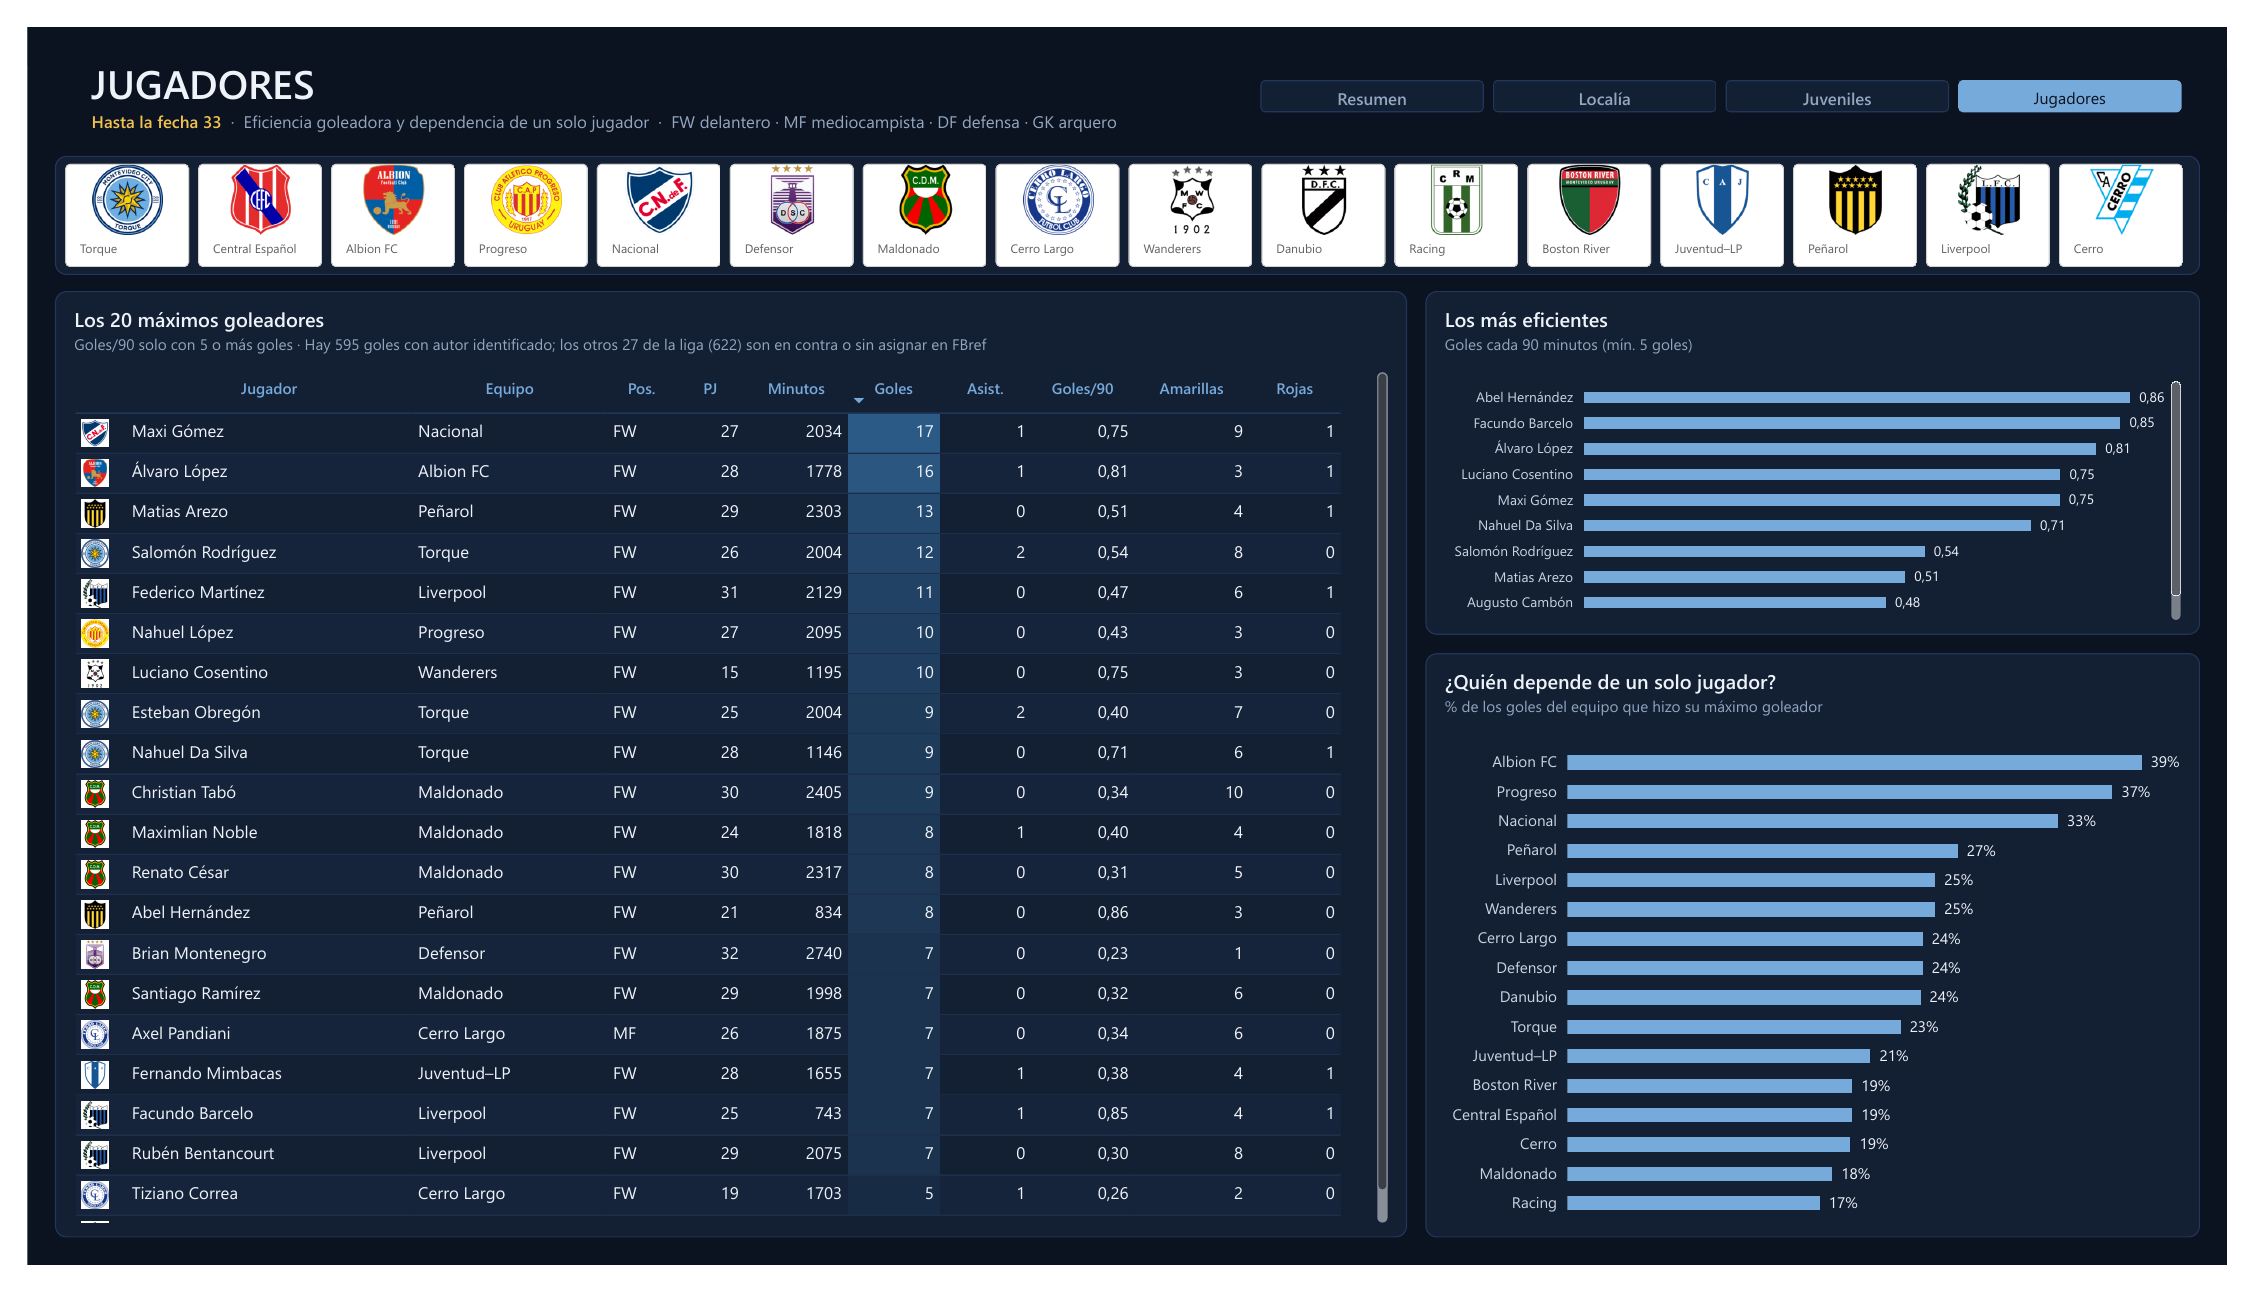

What the dashboard file says about the page in this screenshot:
{"tool":"powerbi","page":{"name":"Jugadores","canvas":[1920,1080],"ordinal":3},"visuals":[{"type":"shape","box":[24,26,6,60],"z":100},{"type":"textbox","box":[40,14,1100,90],"z":200},{"type":"pageNavigator","box":[1060,34,836,52],"z":300},{"type":"advancedSlicerVisual","fields":{"Label":["Min(Equipos.Equipo)"],"Values":["Equipos.Escudo_URL"]},"box":[24,112,1872,104],"z":400},{"type":"tableEx","title":"Los 20 máximos goleadores","fields":{"Values":["Equipos.Escudo_URL","Estadisticas.Jugador","Estadisticas.Equipo","Estadisticas.Posicion","Sum(Estadisticas.Partidos_Jugados)","Sum(Estadisticas.Minutos)","Sum(Estadisticas.Goles)","Sum(Estadisticas.Asistencias)","Estadisticas.Goles cada 90","Sum(Estadisticas.Amarillas)","Sum(Estadisticas.Rojas)"]},"box":[24,230,1180,826],"z":500},{"type":"clusteredBarChart","title":"Los más eficientes","fields":{"Category":["Estadisticas.Jugador"],"Y":["Estadisticas.Goles cada 90"]},"box":[1220,230,676,300],"z":600},{"type":"clusteredBarChart","title":"¿Quién depende de un solo jugador?","fields":{"Category":["Equipos.Equipo"],"Y":["Estadisticas.% Goles del Goleador"]},"box":[1220,546,676,510],"z":700}]}

Visuals, with their boxes in screenshot pixels (x1, y1, x2, y2), scaled from the page's 1920x1080 canvas onto the 2255x1293 screenshot:
shape: bbox(28, 31, 35, 103)
textbox: bbox(47, 17, 1339, 125)
pageNavigator: bbox(1245, 41, 2227, 103)
advancedSlicerVisual - Min(Equipos.Equipo) x Equipos.Escudo_URL: bbox(28, 134, 2227, 259)
"Los 20 máximos goleadores" tableEx: bbox(28, 275, 1414, 1264)
"Los más eficientes" clusteredBarChart: bbox(1433, 275, 2227, 635)
"¿Quién depende de un solo jugador?" clusteredBarChart: bbox(1433, 654, 2227, 1264)
